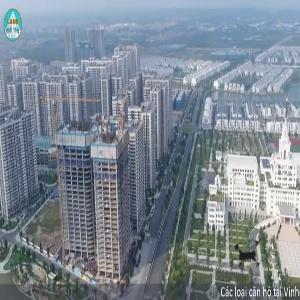drone: (212, 219, 289, 296)
